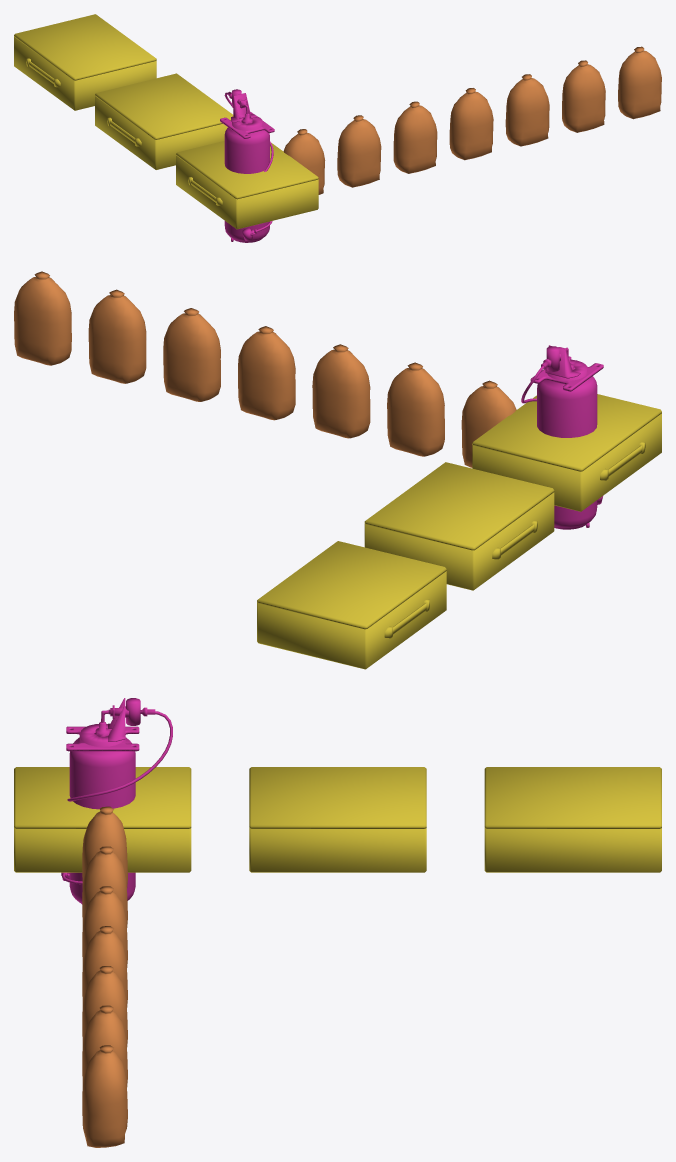
Rendered from Cargo2.fbx.
The picture shows the model from 3 angles, top to bottom: view 1: azimuth 30°, elevation 25°; view 2: azimuth 150°, elevation 25°; view 3: azimuth 270°, elevation 25°; orthographic projection. The views are drawn at different scales.
Visible parts, largest first — view 1: Cargo_FoodContainer.003, Cargo_FoodContainer.004, Cargo_FoodContainer.001, Cargo_Balon, Cargo_FoodContainer.005, Cargo_FoodContainer, Cargo_FoodContainer.002, Cargo_Sac.005, Cargo_Sac.007, Cargo_Sac.006, Cargo_Sac.003, Cargo_Sac.002 (+2 smaller); view 2: Cargo_FoodContainer.004, Cargo_FoodContainer.003, Cargo_FoodContainer, Cargo_FoodContainer.005, Cargo_FoodContainer.002, Cargo_FoodContainer.001, Cargo_Balon, Cargo_Sac.003, Cargo_Sac.006, Cargo_Sac.007, Cargo_Sac.004, Cargo_Sac.002 (+2 smaller); view 3: Cargo_FoodContainer.004, Cargo_FoodContainer.003, Cargo_FoodContainer.005, Cargo_FoodContainer, Cargo_FoodContainer.002, Cargo_Balon, Cargo_FoodContainer.001, Cargo_Sac.007, Cargo_Sac.006, Cargo_Sac.001, Cargo_Sac.002, Cargo_Sac.003 (+2 smaller).
Part boxes in pixels (x1,y1,x2,y2): Cargo_FoodContainer.003: (14, 14, 156, 80); Cargo_FoodContainer.004: (95, 73, 233, 139); Cargo_FoodContainer.001: (176, 155, 318, 229); Cargo_Balon: (220, 89, 274, 242); Cargo_FoodContainer.005: (176, 141, 318, 199); Cargo_FoodContainer: (14, 37, 156, 110); Cargo_FoodContainer.002: (95, 96, 227, 169); Cargo_Sac.005: (505, 74, 549, 146); Cargo_Sac.007: (618, 46, 661, 119); Cargo_Sac.006: (562, 60, 605, 132); Cargo_Sac.003: (393, 101, 437, 173); Cargo_Sac.002: (337, 115, 381, 187); Cargo_FoodContainer.004: (364, 462, 554, 550); Cargo_FoodContainer.003: (257, 541, 446, 629); Cargo_FoodContainer: (257, 571, 446, 669); Cargo_FoodContainer.005: (472, 394, 661, 471); Cargo_FoodContainer.002: (364, 492, 554, 590); Cargo_FoodContainer.001: (472, 413, 661, 511); Cargo_Balon: (521, 345, 603, 529); Cargo_Sac.003: (312, 344, 370, 438); Cargo_Sac.006: (88, 289, 146, 383); Cargo_Sac.007: (14, 271, 71, 365); Cargo_Sac.004: (238, 326, 295, 420); Cargo_Sac.002: (387, 362, 444, 456); Cargo_FoodContainer.004: (249, 767, 426, 828); Cargo_FoodContainer.003: (484, 767, 661, 828); Cargo_FoodContainer.005: (14, 767, 191, 828); Cargo_FoodContainer: (484, 828, 661, 872); Cargo_FoodContainer.002: (249, 828, 426, 872); Cargo_Balon: (61, 698, 172, 904); Cargo_FoodContainer.001: (14, 828, 191, 872); Cargo_Sac.007: (82, 1045, 127, 1147); Cargo_Sac.006: (82, 1005, 127, 1086); Cargo_Sac.001: (82, 806, 127, 887); Cargo_Sac.002: (82, 846, 127, 927); Cargo_Sac.003: (82, 886, 127, 967).
Bounding box in the file's own units: 163 × 47.04 × 138.
